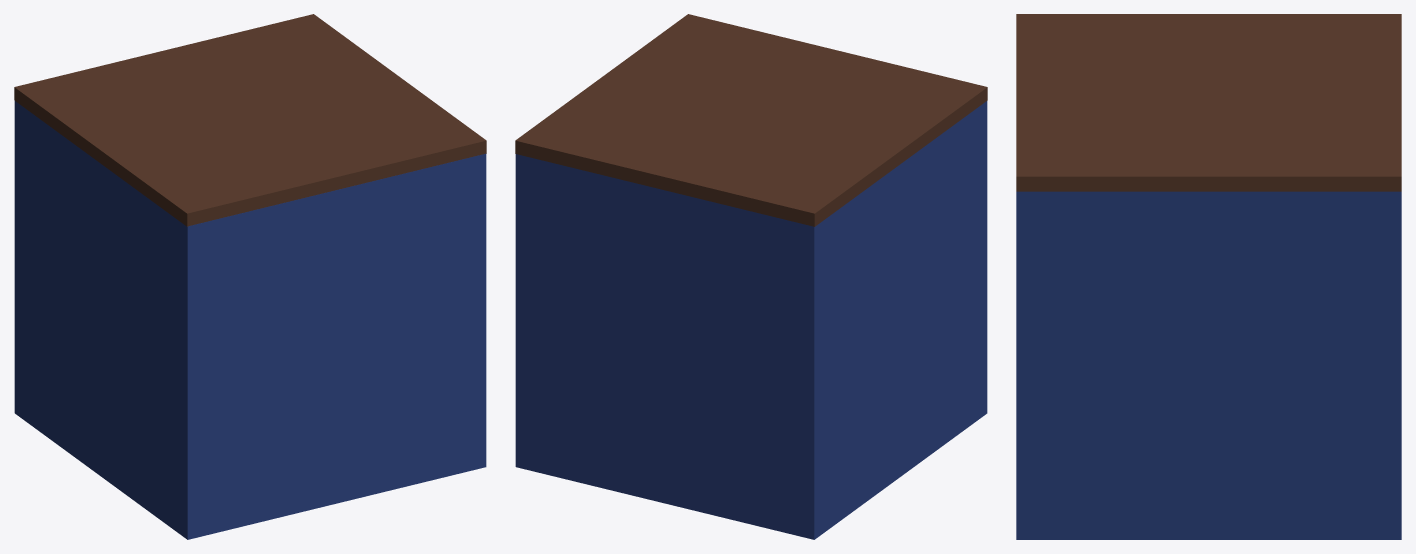
The model's file is Connect_0_L.fbx.
The picture shows the model from 3 angles, left to right: view 1: azimuth 30°, elevation 25°; view 2: azimuth 150°, elevation 25°; view 3: azimuth 270°, elevation 25°; orthographic projection. The views are drawn at different scales.
Parts seen in each view (by area): view 1: Cube_5, Cube_4; view 2: Cube_5, Cube_4; view 3: Cube_5, Cube_4.
Part boxes in pixels (x1,y1,x2,y2): Cube_5: (14, 101, 486, 539); Cube_4: (14, 14, 486, 226); Cube_5: (515, 101, 987, 539); Cube_4: (515, 14, 987, 226); Cube_5: (1016, 191, 1401, 539); Cube_4: (1016, 14, 1401, 191).
Size of the model in its own units: 200 by 208 by 200.
